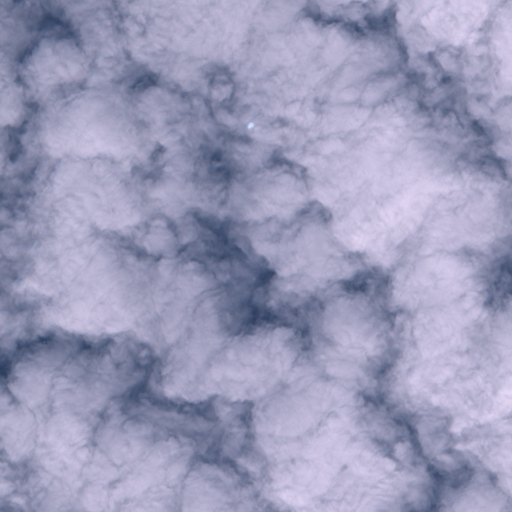Iceberg: (248, 123, 253, 127)
